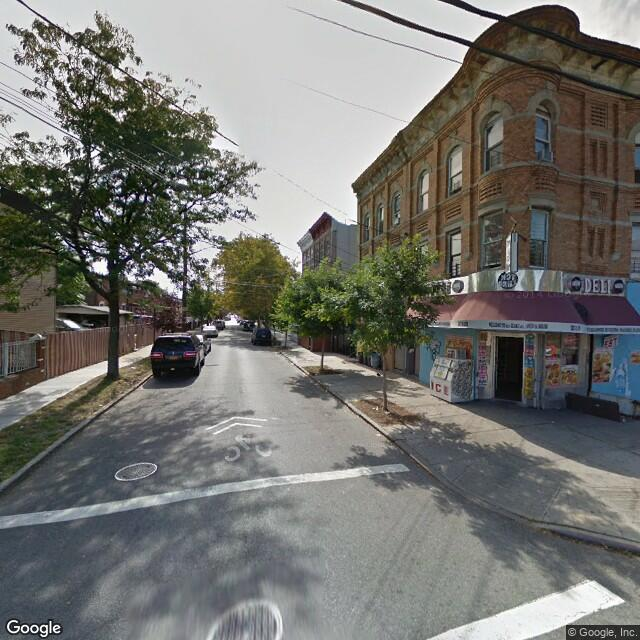litter: (350, 396, 361, 402), (370, 401, 376, 410), (382, 409, 392, 414)
